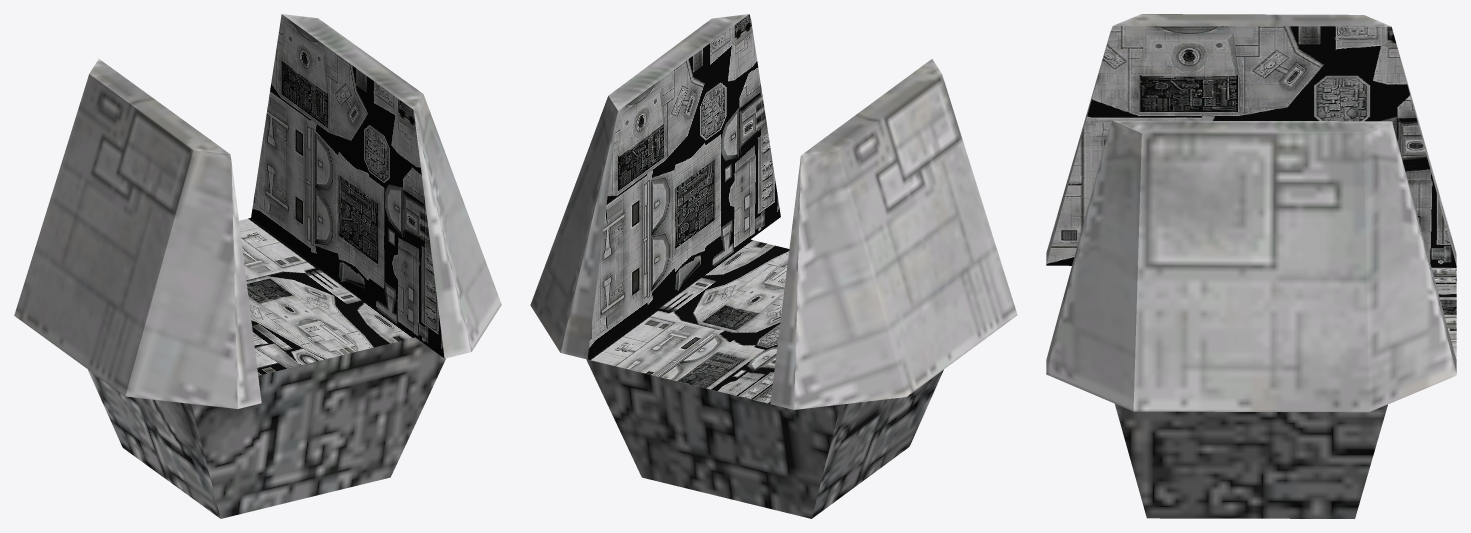
Rendered from star_destroyer_turret_med_base_l0.fbx.
3 views of the same model, side by side, from view 1: azimuth 30°, elevation 25°; view 2: azimuth 150°, elevation 25°; view 3: azimuth 270°, elevation 25° (orthographic). The views are drawn at different scales.
Parts seen in each view (by area): view 1: mesh_node; view 2: mesh_node; view 3: mesh_node.
Boxes of the visible parts, bbox=[...] form: mesh_node: bbox=[14, 14, 501, 518]; mesh_node: bbox=[530, 14, 1017, 518]; mesh_node: bbox=[1046, 14, 1456, 518].
Bounding box in the file's own units: 10.78 × 10.36 × 9.6.
Materials: 1 (1 with a texture image).
